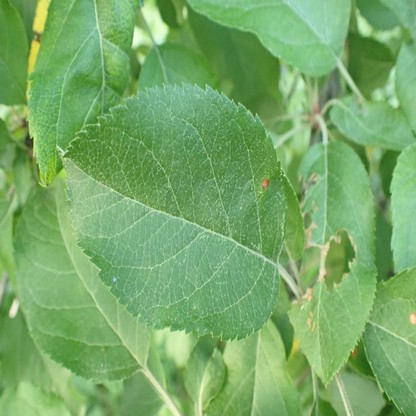frogeye_leaf_spot: (410, 312, 416, 325), (262, 178, 269, 189)
